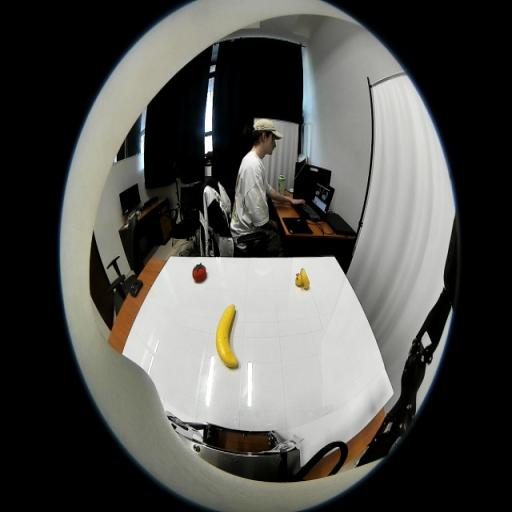Banana: (216, 304, 238, 369)
Duck: (295, 268, 310, 290)
Tomato: (192, 264, 206, 282)
